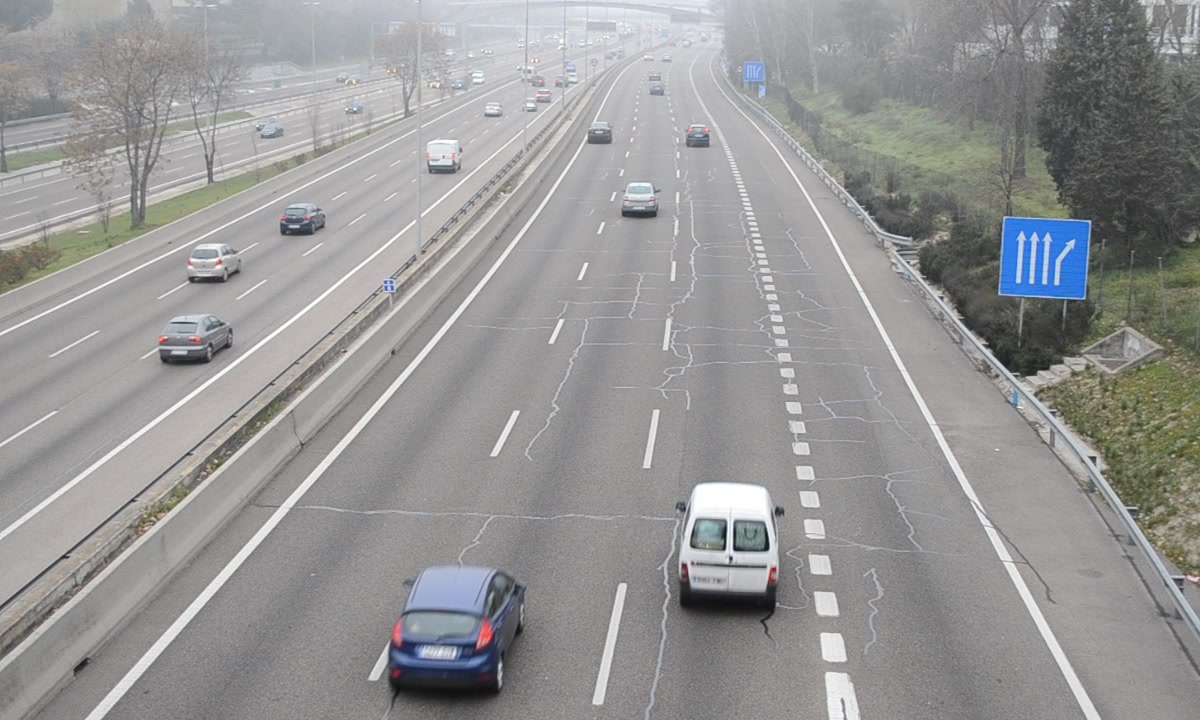car: (390, 566, 523, 684), (621, 182, 657, 215), (586, 121, 613, 146), (685, 124, 712, 148)
van: (679, 483, 780, 608)
